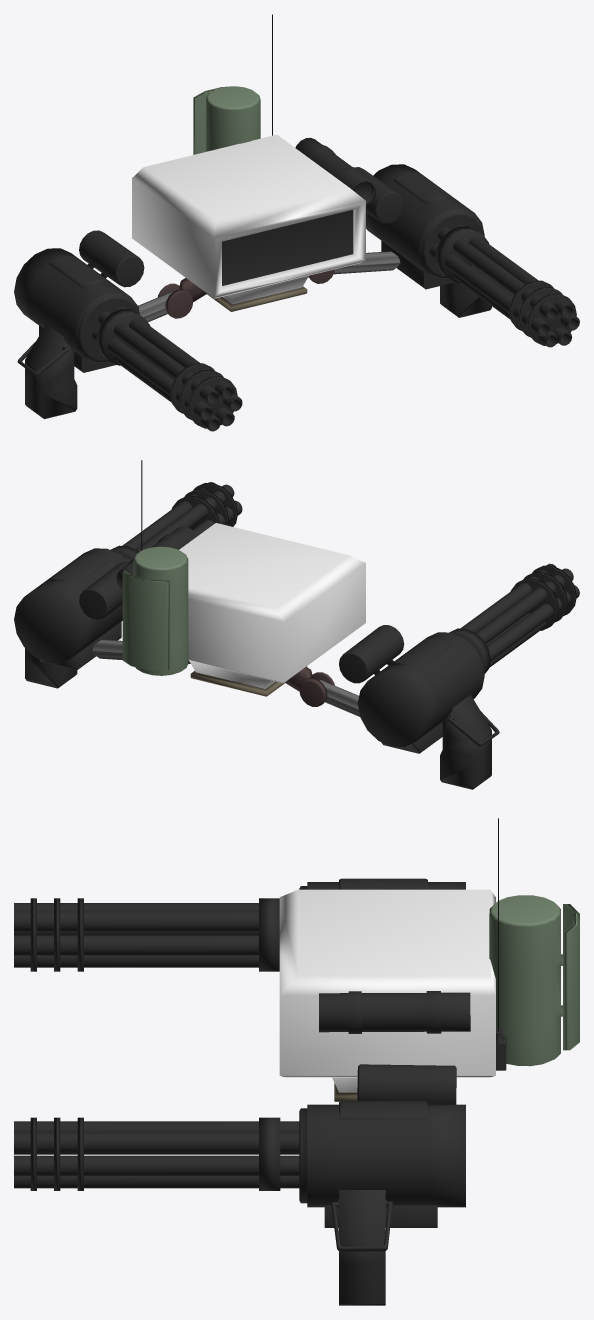
File: enemy4_white.fbx
The picture shows the model from 3 angles, top to bottom: view 1: azimuth 30°, elevation 25°; view 2: azimuth 150°, elevation 25°; view 3: azimuth 270°, elevation 25°; orthographic projection. The views are drawn at different scales.
Parts seen in each view (by area): view 1: P_enemy4_white; view 2: P_enemy4_white; view 3: P_enemy4_white.
Boxes of the visible parts, box(x1,y1,x2,y2) form: P_enemy4_white: box(14, 14, 579, 431); P_enemy4_white: box(14, 460, 579, 789); P_enemy4_white: box(14, 818, 579, 1305).
Bounding box in the file's own units: 48.41 × 28.89 × 38.48.
Materials: 1 (1 with a texture image).
